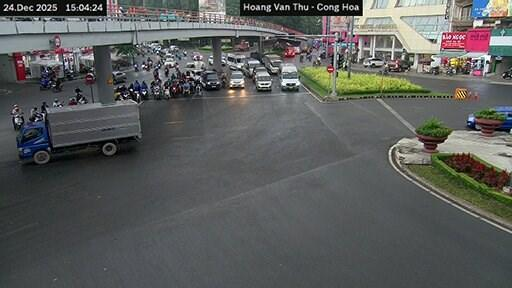motorbike: (12, 113, 22, 129), (170, 81, 178, 97), (39, 79, 51, 89), (131, 90, 140, 102), (66, 70, 76, 80), (502, 67, 511, 77), (153, 85, 159, 99), (51, 81, 60, 90), (163, 86, 169, 99), (140, 88, 147, 99), (77, 95, 88, 102), (445, 67, 454, 75), (428, 66, 438, 73), (220, 77, 226, 88), (313, 58, 320, 66), (182, 85, 188, 94), (140, 63, 145, 68), (134, 63, 137, 71)
